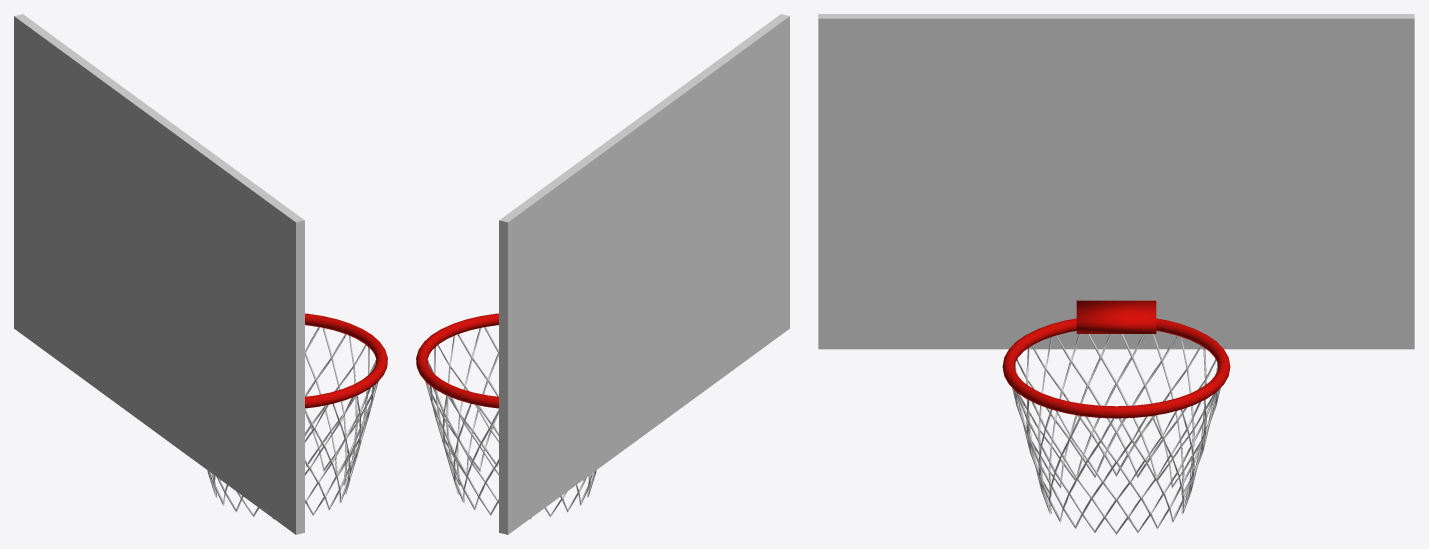
Rendered from basket goal.fbx.
3 views of the same model, side by side, from view 1: azimuth 30°, elevation 25°; view 2: azimuth 150°, elevation 25°; view 3: azimuth 270°, elevation 25° (orthographic). The views are drawn at different scales.
Parts seen in each view (by area): view 1: Board, Net, Ring; view 2: Board, Net, Ring; view 3: Board, Net, Ring.
Part boxes in pixels (x1,y1,x2,y2): Board: (14,14,304,534); Net: (207,327,378,519); Ring: (305,313,387,408); Board: (499,14,789,534); Net: (425,327,596,519); Ring: (416,313,498,408); Board: (818,14,1414,349); Net: (1012,334,1220,534); Ring: (1002,300,1230,418).
Size of the model in its own units: 89.53 by 158 by 200.
